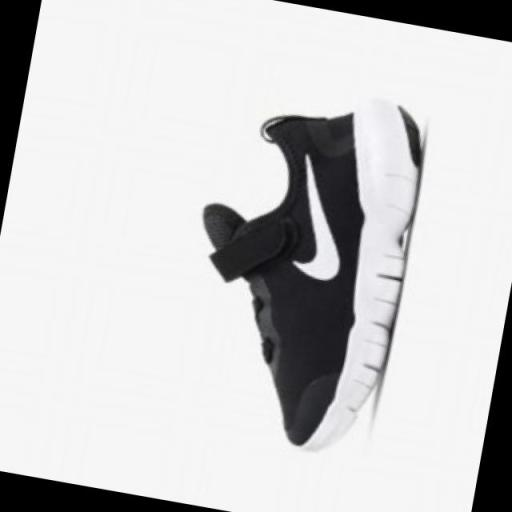Nike: (279, 148, 362, 294)
